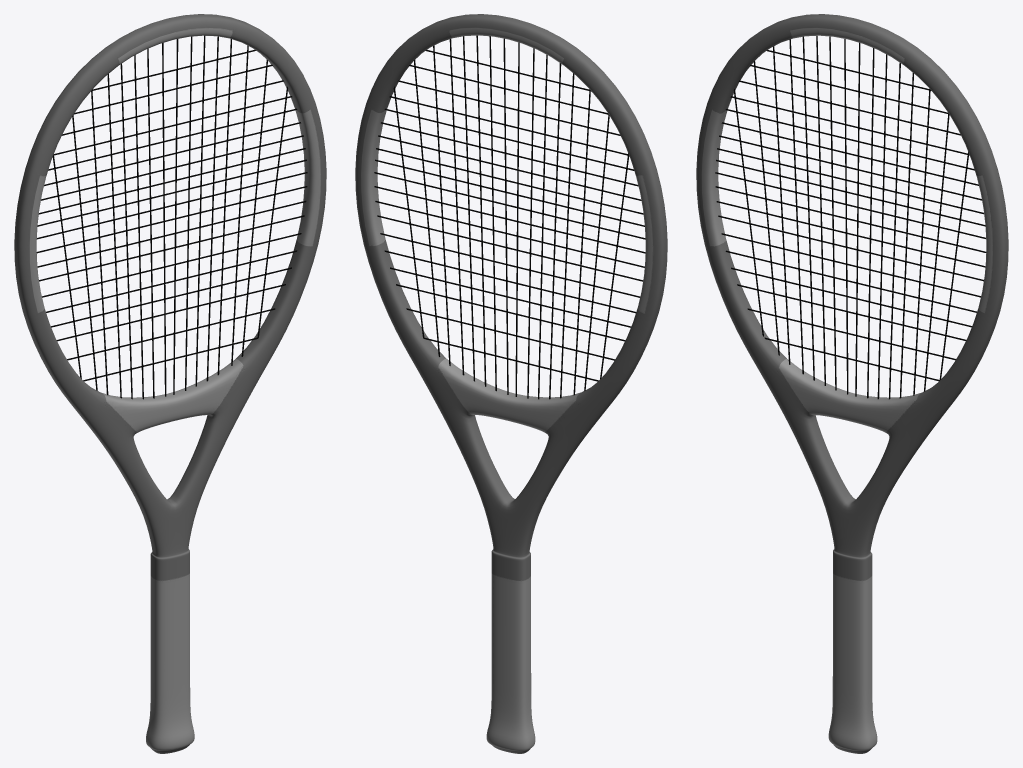
The model's file is racket2.gltf.
3 renders of one model, left to right at view 1: azimuth 30°, elevation 25°; view 2: azimuth 150°, elevation 25°; view 3: azimuth 330°, elevation 25°, orthographic.
Visible parts, largest first — view 1: 10540_Tennis_racket_V2_L3; view 2: 10540_Tennis_racket_V2_L3; view 3: 10540_Tennis_racket_V2_L3.
Boxes of the visible parts, x1,y1,x2,y2 form: 10540_Tennis_racket_V2_L3: (14, 14, 326, 753); 10540_Tennis_racket_V2_L3: (355, 14, 667, 753); 10540_Tennis_racket_V2_L3: (696, 14, 1008, 753).
Bounding box in the file's own units: 30.35 × 68.68 × 2.93.
Materials: 1 (1 with a texture image).
